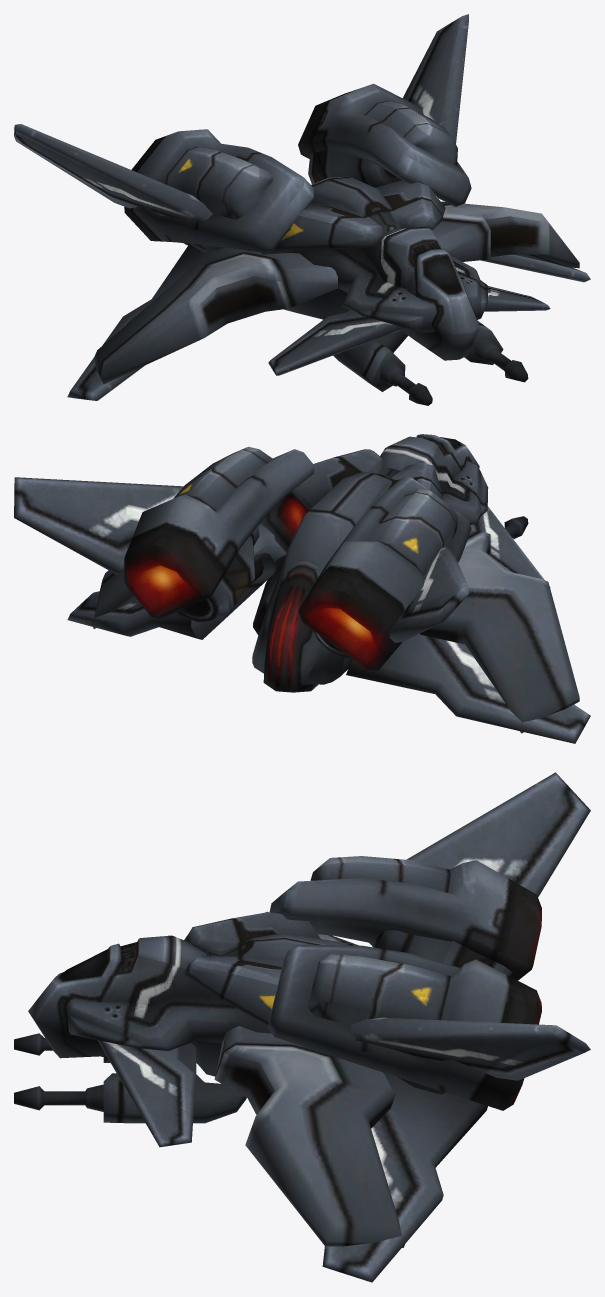
The model's file is Unit_SmallFighters_2.glb.
3 renders of one model, top to bottom at view 1: azimuth 30°, elevation 25°; view 2: azimuth 150°, elevation 25°; view 3: azimuth 270°, elevation 25°, orthographic. The views are drawn at different scales.
Visible parts, largest first — view 1: Mesh 1; view 2: Mesh 1; view 3: Mesh 1.
Boxes of the visible parts, <box> form: Mesh 1: <box>14,14,590,405</box>; Mesh 1: <box>14,434,590,743</box>; Mesh 1: <box>14,772,590,1282</box>.
Bounding box in the file's own units: 1.69 × 0.6646 × 1.44.
1 material, 1 textured.
